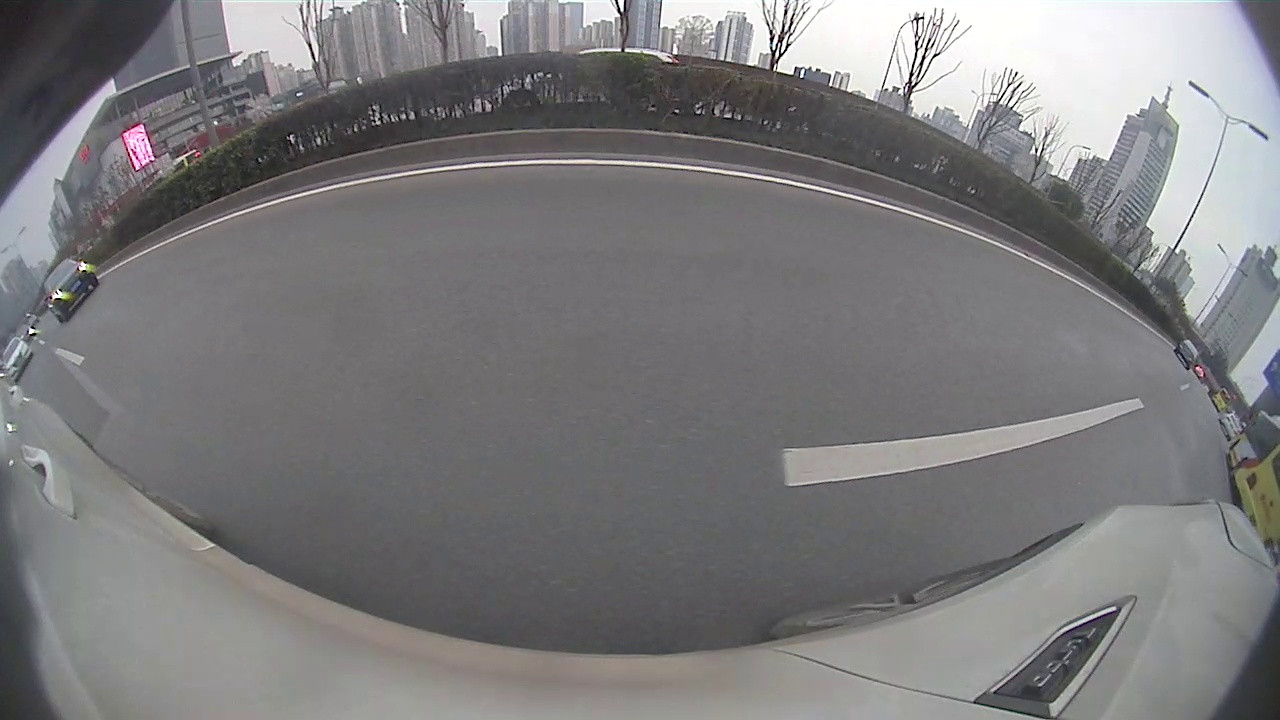bus: (1225, 406, 1278, 556)
car: (40, 258, 97, 320)
